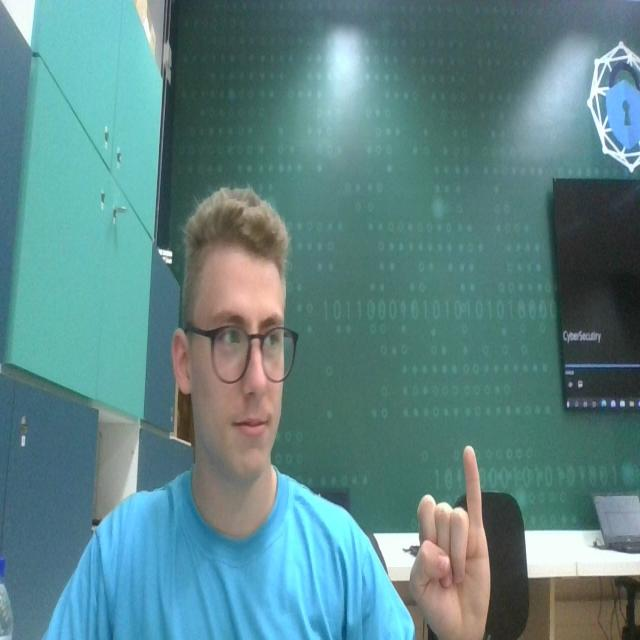I: (396, 426, 497, 640)
